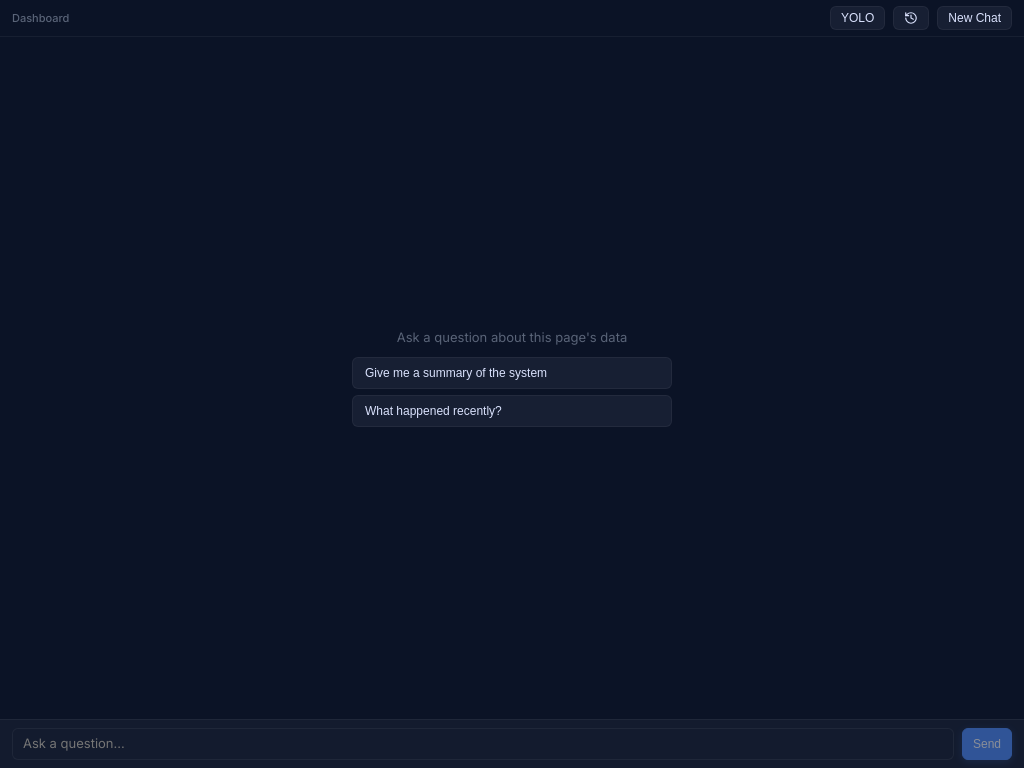
Test case: AiChatPanel › shows streaming indicator (thinking) after sending a message
Type "Hello" into the text box with test id "ai-chat-input" at (483, 744), box [12,728,954,760]
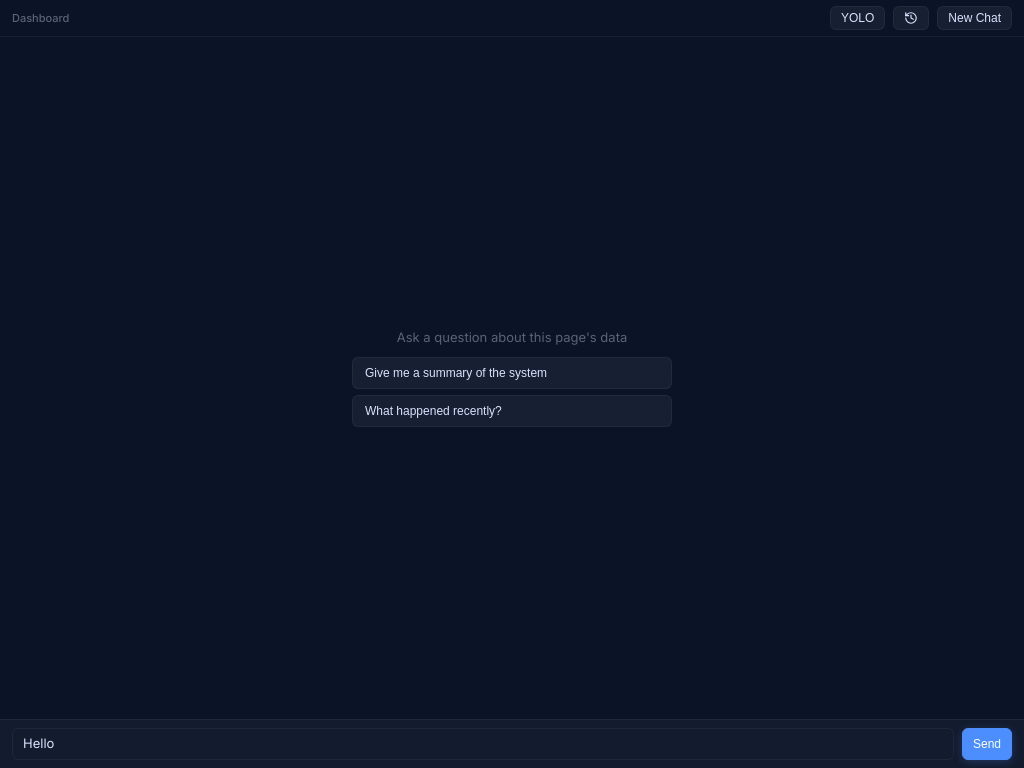
Click the button with test id "ai-chat-send-btn" at (987, 744), box [962,728,1012,760]
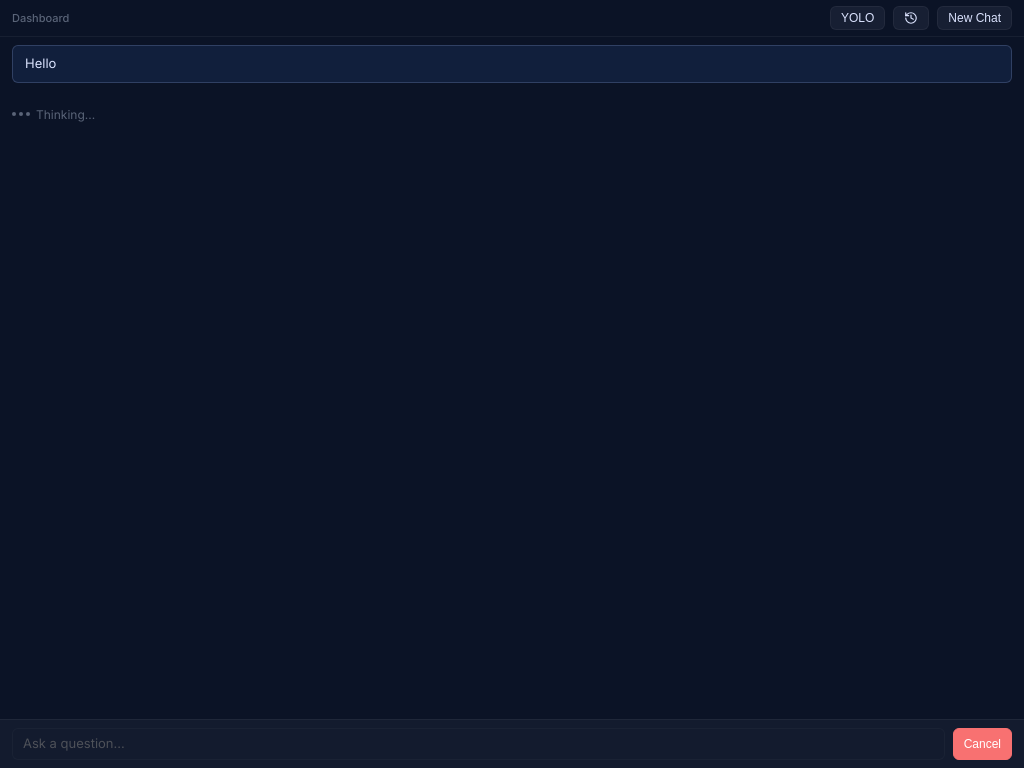
Check: the element with test id "ai-chat-status" is shown, box [12,106,95,122]
